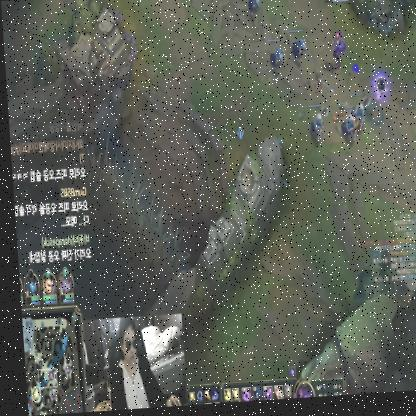streamer: (99, 314, 176, 412)
